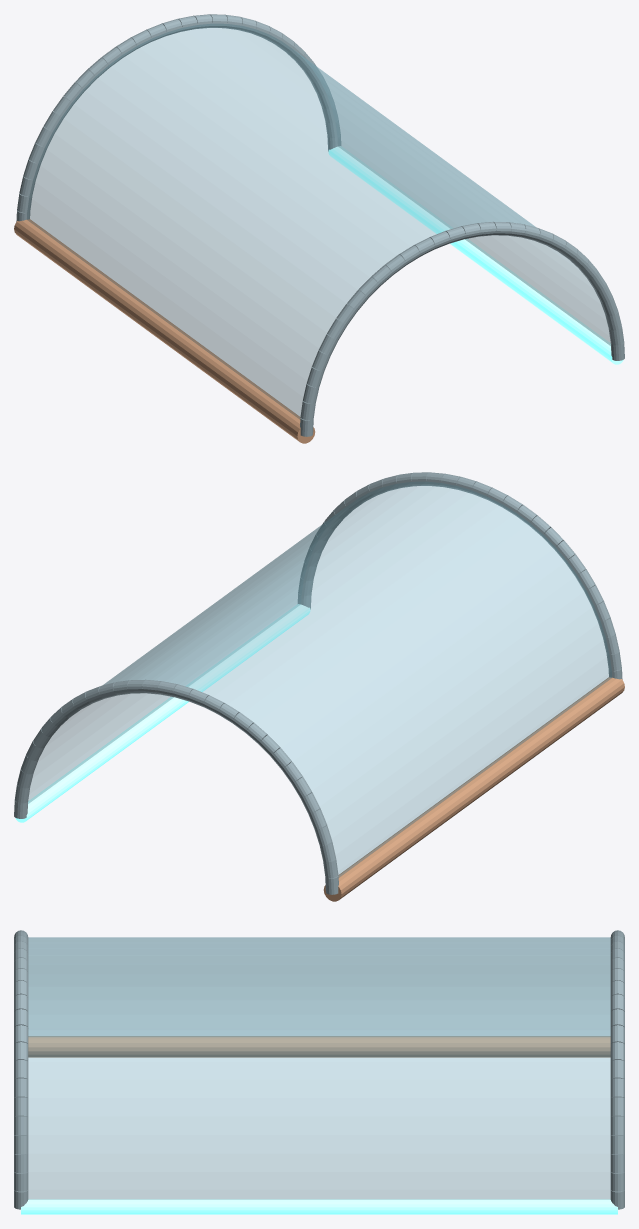
File: pod_canopy.glb
3 renders of one model, top to bottom at view 1: azimuth 30°, elevation 25°; view 2: azimuth 150°, elevation 25°; view 3: azimuth 270°, elevation 25°, orthographic. The views are drawn at different scales.
Visible parts, largest first — view 1: canopy_glass, copper_65, blue_66; view 2: canopy_glass, copper_65, blue_66; view 3: canopy_glass, copper_65, blue_66.
Part boxes in pixels (x1,y1,x2,y2): canopy_glass: (27, 24, 610, 419); copper_65: (14, 219, 315, 443); blue_66: (328, 146, 623, 364); canopy_glass: (28, 482, 611, 877); copper_65: (323, 677, 624, 901); blue_66: (15, 604, 310, 822); canopy_glass: (28, 937, 610, 1199); copper_65: (28, 1036, 610, 1057); blue_66: (21, 1199, 617, 1214).
Bounding box in the file's own units: 1.28 × 0.668 × 1.97.
